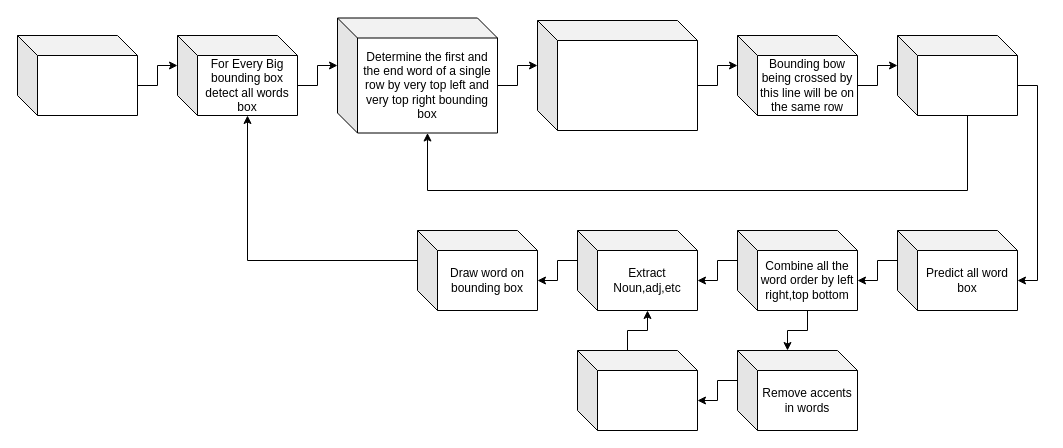
The diagram is 1063 pixels wide and 448 high, and some of its shapes have lost their labels. The box of each missing label's shape, as (x1, y1, x2, y2) in pixels:
Draw a line from (min x:max y) of first word to (max x:max y) of end word: (536, 20, 698, 130)
Predict big Bounding box for Sign: (16, 34, 138, 116)
Recreate word with accents: (576, 350, 698, 430)
Remove all word box of this row from word box list: (896, 34, 1018, 116)
